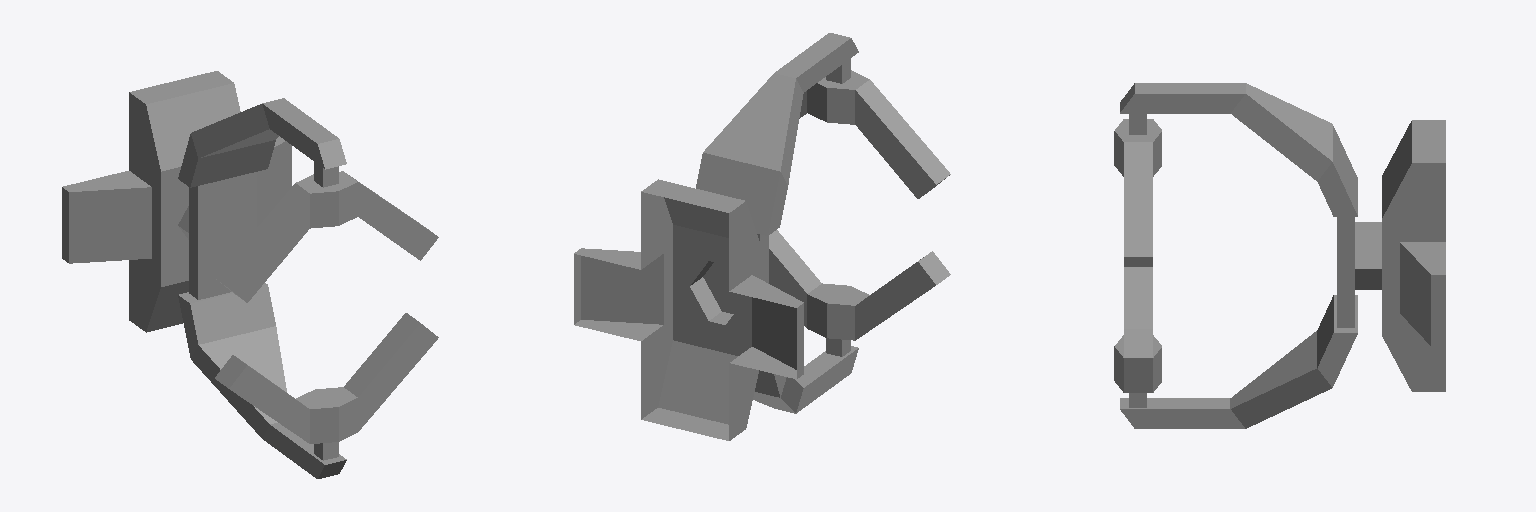
Rendered from SM_Checkpoint.obj.
The picture shows the model from 3 angles: view 1: azimuth 30°, elevation 25°; view 2: azimuth 150°, elevation 25°; view 3: azimuth 270°, elevation 25°; orthographic projection.
Visible parts, largest first — view 1: Cube; view 2: Cube; view 3: Cube.
Part boxes in pixels (x1,y1,x2,y2): Cube: (62,71,438,478); Cube: (574,33,950,440); Cube: (1114,83,1445,428).
Size of the model in its own units: 4.03 by 5.8 by 5.18.